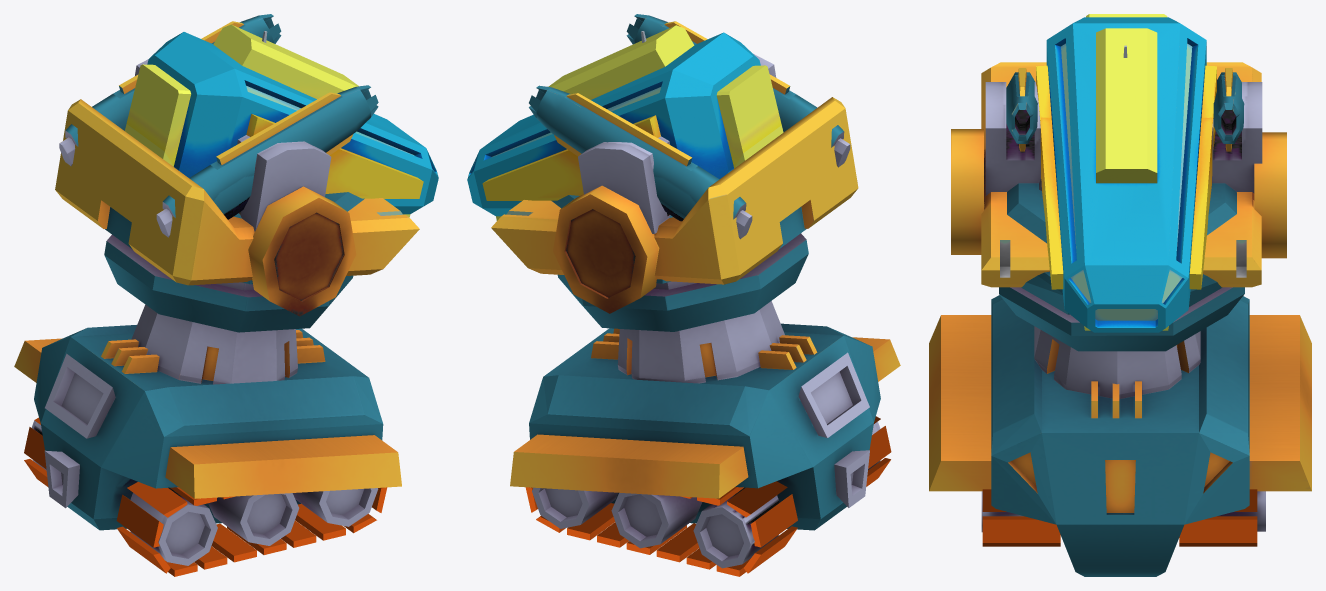
The model's file is Player_moving_upgrade15.obj.
3 renders of one model, left to right at view 1: azimuth 30°, elevation 25°; view 2: azimuth 150°, elevation 25°; view 3: azimuth 270°, elevation 25°, orthographic. The views are drawn at different scales.
Parts seen in each view (by area): view 1: Object015, Object014, Box009, Box017, Box016; view 2: Object015, Object014, Box009, Box016, Box017; view 3: Object015, Object014, Box017, Box016, Box009.
Part boxes in pixels (x1,y1,x2,y2): Object015: (14,24,438,530); Object014: (59,14,378,237); Box009: (31,420,378,565); Box017: (116,482,387,576); Box016: (24,417,48,486); Object015: (467,25,900,530); Object014: (529,14,850,239); Box009: (532,422,880,568); Box016: (525,481,797,576); Box017: (866,416,891,486); Object015: (929,14,1311,576); Object014: (1006,68,1244,151); Box017: (982,489,1060,546); Box016: (1179,489,1257,546); Box009: (981,491,1265,532).
Bounding box in the file's own units: 70.38 × 88.9 × 59.78.
Materials: 5 (3 with a texture image).
